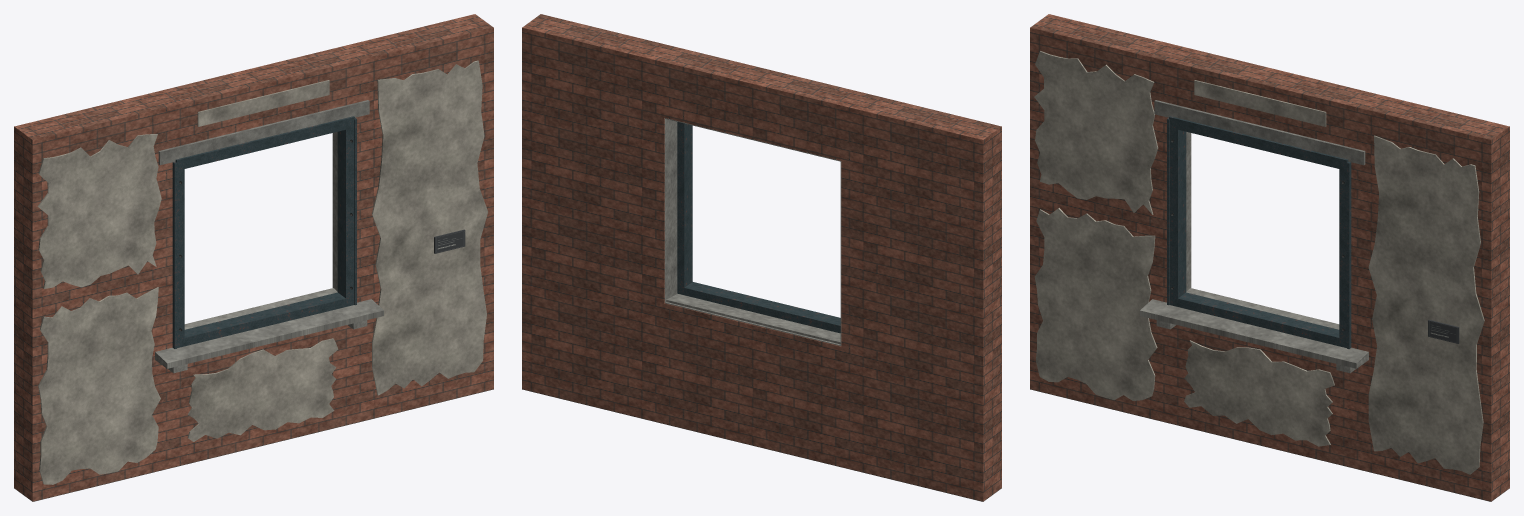
The model's file is PROJECT_Z_WallPanel_Window_4x3.glb.
The picture shows the model from 3 angles, left to right: view 1: azimuth 30°, elevation 25°; view 2: azimuth 150°, elevation 25°; view 3: azimuth 330°, elevation 25°; orthographic projection.
Visible parts, largest first — view 1: WALL_MasonryCore_TrueThroughOpening, FINISH_Plaster_Right_Main, FINISH_Plaster_Left_Lower, FINISH_Plaster_Left_Upper, FINISH_Plaster_BelowWindow, SILL_CastConcrete_SlopingDripEdge, WINDOW_SteelFrame_RightJamb, LINTEL_Concrete_ExternalBand, WINDOW_SteelFrame_Base, FINISH_Plaster_AboveWindow, WINDOW_SteelFrame_LeftJamb, WINDOW_SteelFrame_Head (+5 smaller); view 2: WALL_MasonryCore_TrueThroughOpening, WINDOW_SteelFrame_RightJamb, WINDOW_SteelFrame_Base, REVEAL_Cement_Right, SILL_CastConcrete_SlopingDripEdge, REVEAL_Cement_Bottom; view 3: WALL_MasonryCore_TrueThroughOpening, FINISH_Plaster_Right_Main, FINISH_Plaster_Left_Lower, FINISH_Plaster_Left_Upper, FINISH_Plaster_BelowWindow, SILL_CastConcrete_SlopingDripEdge, WINDOW_SteelFrame_LeftJamb, LINTEL_Concrete_ExternalBand, WINDOW_SteelFrame_Base, FINISH_Plaster_AboveWindow, WINDOW_SteelFrame_RightJamb, WINDOW_SteelFrame_Head (+5 smaller).
Boxes of the visible parts, bbox=[...] form: WALL_MasonryCore_TrueThroughOpening: bbox=[14, 14, 493, 501]; FINISH_Plaster_Right_Main: bbox=[372, 60, 487, 395]; FINISH_Plaster_Left_Lower: bbox=[38, 287, 160, 484]; FINISH_Plaster_Left_Upper: bbox=[37, 134, 161, 288]; FINISH_Plaster_BelowWindow: bbox=[187, 338, 338, 441]; SILL_CastConcrete_SlopingDripEdge: bbox=[155, 288, 383, 368]; WINDOW_SteelFrame_RightJamb: bbox=[337, 119, 354, 306]; LINTEL_Concrete_ExternalBand: bbox=[158, 100, 369, 165]; WINDOW_SteelFrame_Base: bbox=[184, 292, 345, 346]; FINISH_Plaster_AboveWindow: bbox=[197, 80, 329, 126]; WINDOW_SteelFrame_LeftJamb: bbox=[176, 161, 184, 347]; WINDOW_SteelFrame_Head: bbox=[184, 121, 345, 168]; WALL_MasonryCore_TrueThroughOpening: bbox=[522, 14, 1001, 501]; WINDOW_SteelFrame_RightJamb: bbox=[677, 122, 692, 294]; WINDOW_SteelFrame_Base: bbox=[684, 282, 840, 333]; REVEAL_Cement_Right: bbox=[664, 118, 677, 302]; SILL_CastConcrete_SlopingDripEdge: bbox=[666, 294, 840, 344]; REVEAL_Cement_Bottom: bbox=[665, 293, 840, 345]; WALL_MasonryCore_TrueThroughOpening: bbox=[1030, 14, 1509, 501]; FINISH_Plaster_Right_Main: bbox=[1368, 135, 1484, 474]; FINISH_Plaster_Left_Lower: bbox=[1034, 208, 1157, 400]; FINISH_Plaster_Left_Upper: bbox=[1034, 51, 1158, 214]; FINISH_Plaster_BelowWindow: bbox=[1184, 340, 1334, 446]; SILL_CastConcrete_SlopingDripEdge: bbox=[1140, 288, 1368, 368]; WINDOW_SteelFrame_LeftJamb: bbox=[1169, 119, 1186, 306]; LINTEL_Concrete_ExternalBand: bbox=[1154, 100, 1365, 165]; WINDOW_SteelFrame_Base: bbox=[1178, 292, 1339, 346]; FINISH_Plaster_AboveWindow: bbox=[1194, 80, 1326, 126]; WINDOW_SteelFrame_RightJamb: bbox=[1339, 161, 1347, 347]; WINDOW_SteelFrame_Head: bbox=[1178, 121, 1339, 168].
Bounding box in the file's own units: 4 × 3 × 0.465.
Materials: 6 (6 with a texture image).
